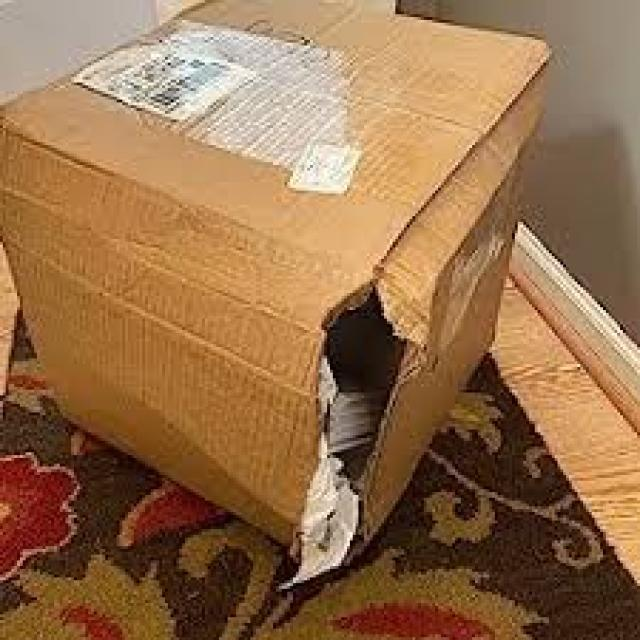box: (0, 0, 554, 589)
opened: (278, 270, 423, 594)
